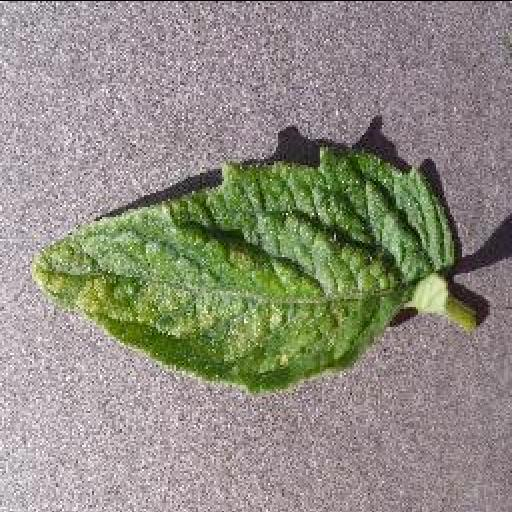disease_tomato: (30, 138, 460, 394)
